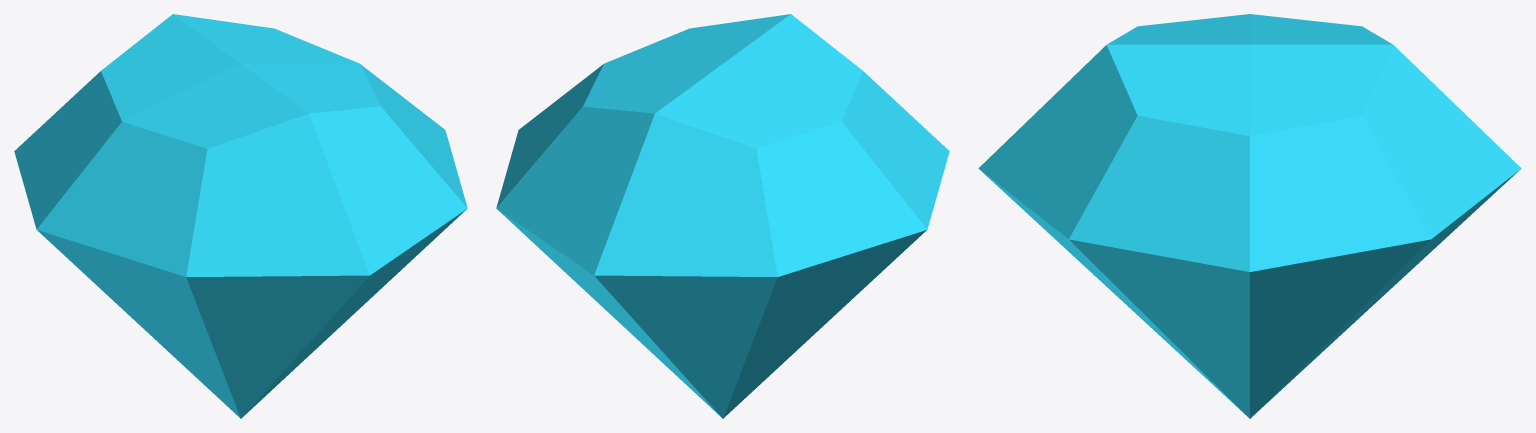
File: Diamond.gltf
The picture shows the model from 3 angles, left to right: view 1: azimuth 30°, elevation 25°; view 2: azimuth 150°, elevation 25°; view 3: azimuth 270°, elevation 25°; orthographic projection. The views are drawn at different scales.
Parts seen in each view (by area): view 1: Diamond; view 2: Diamond; view 3: Diamond.
Part boxes in pixels (bbox=[...]): Diamond: bbox=[14, 14, 467, 418]; Diamond: bbox=[496, 14, 949, 418]; Diamond: bbox=[978, 14, 1521, 418].
Bounding box in the file's own units: 3.16 × 2.62 × 3.45.
